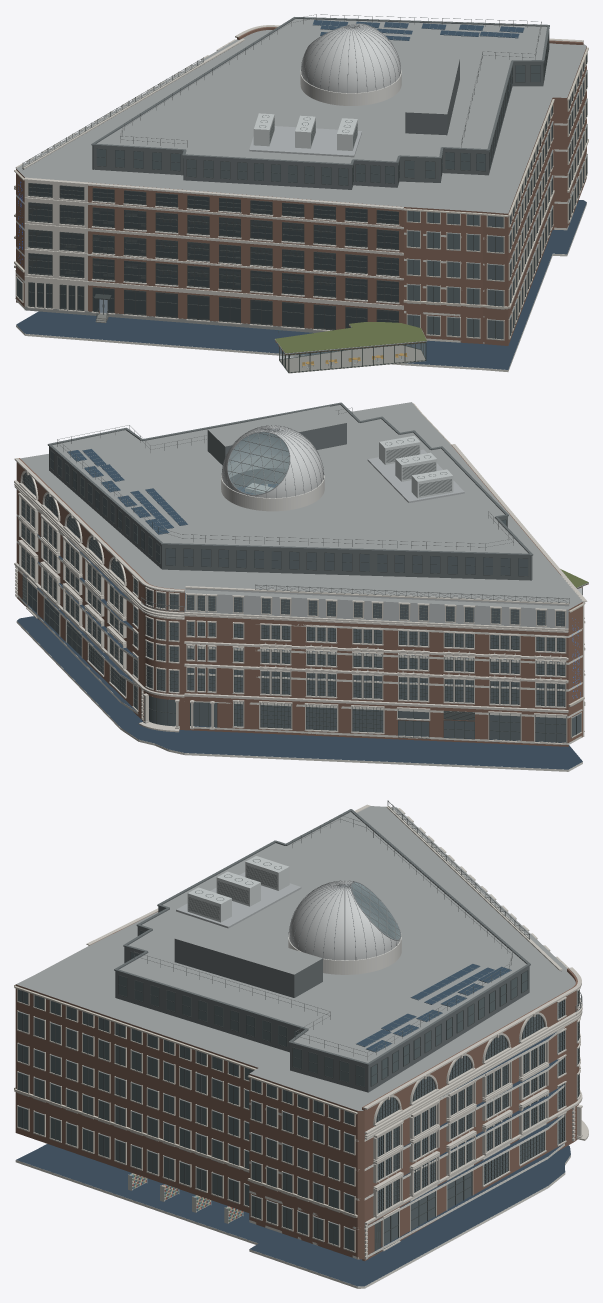
The model's file is lrb-exterior-b7c166909bf9.glb.
3 views of the same model, one above another, from view 1: azimuth 30°, elevation 25°; view 2: azimuth 150°, elevation 25°; view 3: azimuth 270°, elevation 25° (orthographic). The views are drawn at different scales.
Parts seen in each view (by area): view 1: LRB.001; view 2: LRB.001; view 3: LRB.001.
Boxes of the visible parts, x1=… form: LRB.001: x1=14, y1=14, x2=588, y2=373; LRB.001: x1=14, y1=402, x2=588, y2=771; LRB.001: x1=14, y1=800, x2=588, y2=1288.
Bounding box in the file's own units: 89.68 × 36.89 × 70.98.
